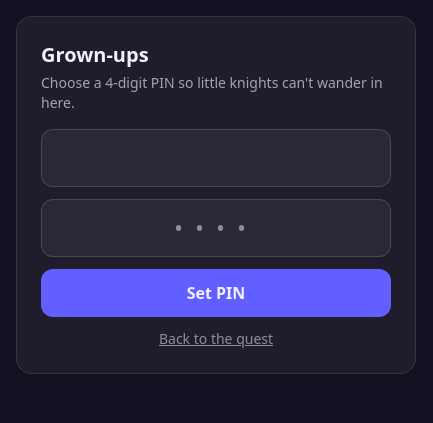
PIN gate › rejects mismatched PINs and stays locked
In the password field named "PIN": (216, 158) [41,129,391,187], type "1234"
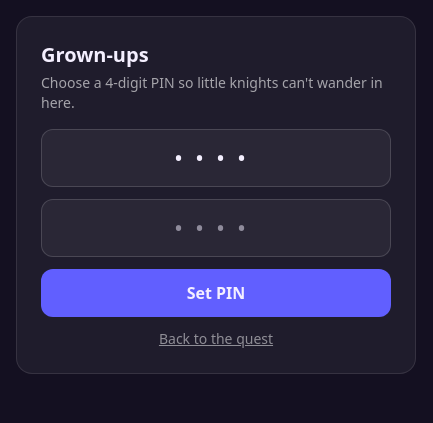
In the password field named "PIN": (216, 228) [41,199,391,257], type "5678"
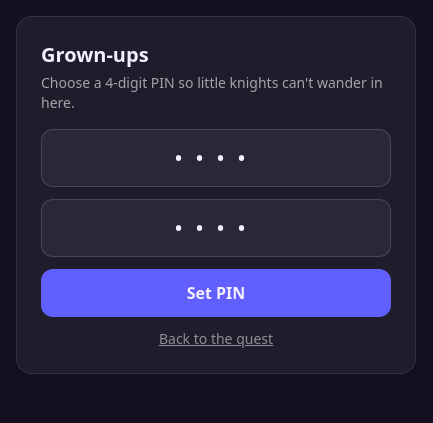
Click the button "Set PIN": (216, 293) [41,269,391,317]
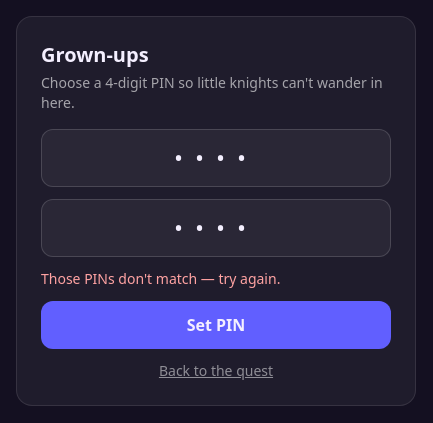
Check: the message shows "don't match", box [41,269,280,288]
